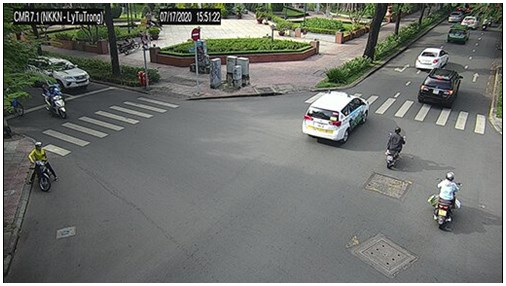xe_hoi: (23, 57, 91, 91), (418, 68, 463, 108), (414, 47, 450, 70), (447, 23, 469, 44), (447, 9, 463, 24), (462, 15, 479, 29)
xe_may: (428, 172, 462, 229), (28, 141, 57, 192), (384, 127, 406, 172), (43, 86, 67, 117), (38, 75, 64, 98), (5, 86, 22, 121), (116, 36, 139, 54), (481, 17, 488, 30), (487, 15, 494, 27)
xe_taxi: (304, 91, 370, 145)
